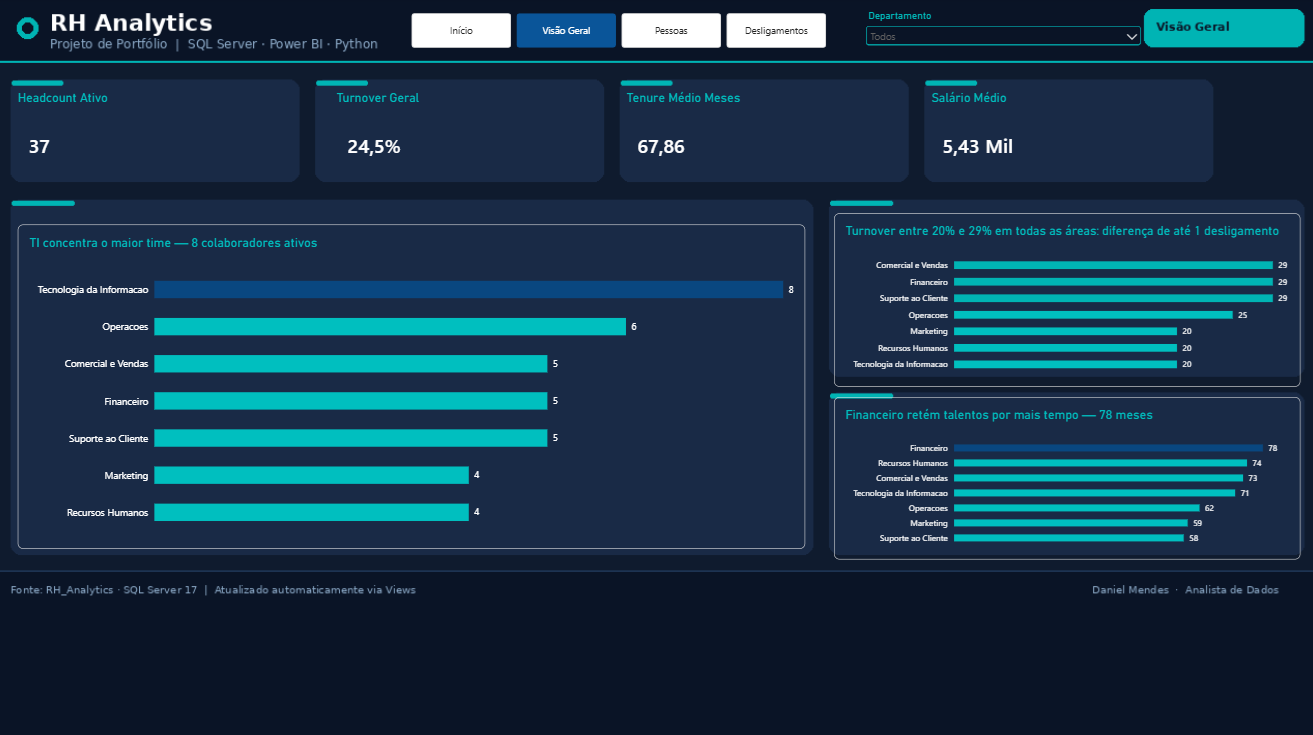

The page's visual inventory and layout, read from the dashboard file:
{"tool":"powerbi","page":{"name":"Visão Geral","canvas":[1920,1080],"ordinal":1},"visuals":[{"type":"cardVisual","title":"Headcount Ativo","fields":{"Data":["Sum(vw_Headcount_Ativo.Headcount_Ativo)"]},"box":[35,135.8,393.1,119.4],"z":0},{"type":"cardVisual","title":"Turnover Médio (%)","fields":{"Data":["Avg(vw_Turnover_Departamento.Turnover_Pct)"]},"box":[496.1,135.8,397.3,119.4],"z":1000},{"type":"cardVisual","title":"Tenure Médio Meses (%)","fields":{"Data":["Avg(vw_Tenure_Departamento.Tenure_Medio_Meses)"]},"box":[916,135.8,399.3,119.4],"z":2000},{"type":"cardVisual","title":"Salário Médio","fields":{"Data":["Avg(vw_Painel_Executivo.Salario_Medio)"]},"box":[1356.4,135.8,403.4,119.4],"z":3000},{"type":"clusteredBarChart","title":"TI concentra o maior time — 8 colaboradores ativos","fields":{"Category":["vw_Headcount_Ativo.Departamento"],"Y":["Sum(vw_Headcount_Ativo.Headcount_Ativo)"]},"box":[35,329.3,1140.3,469.3],"z":4000},{"type":"clusteredBarChart","title":"3 departamentos com Turnover acima de 28% — sinal de alerta","fields":{"Category":["vw_Turnover_Departamento.Departamento"],"Y":["Avg(vw_Turnover_Departamento.Turnover_Pct)"]},"box":[1216.5,312.9,675.1,226.4],"z":5000},{"type":"textbox","box":[588.7,191.4,63.8,59.7],"z":6000},{"type":"textbox","box":[1004.5,191.4,63.8,59.7],"z":7000},{"type":"clusteredBarChart","title":"Financeiro retém talentos por mais tempo — 78 meses","fields":{"Category":["vw_Tenure_Departamento.Departamento"],"Y":["Avg(vw_Tenure_Departamento.Tenure_Medio_Meses)"]},"box":[1216.5,592.8,675.1,205.8],"z":8000},{"type":"slicer","fields":{"Values":["vw_Headcount_Ativo.Departamento"]},"box":[1257.6,18.5,407.5,53.5],"z":9000},{"type":"pageNavigator","box":[605.1,22.6,600,50],"z":10000}]}

Visuals, with their boxes in screenshot pixels (x1, y1, x2, y2), scaled from the page's 1920x1080 canvas onto the 1313x735 screenshot:
"Headcount Ativo" cardVisual: 24 92 293 174
"Turnover Médio (%)" cardVisual: 339 92 611 174
"Tenure Médio Meses (%)" cardVisual: 626 92 899 174
"Salário Médio" cardVisual: 928 92 1203 174
"TI concentra o maior time — 8 colaboradores ativos" clusteredBarChart: 24 224 804 543
"3 departamentos com Turnover acima de 28% — sinal de alerta" clusteredBarChart: 832 213 1294 367
textbox: 403 130 446 171
textbox: 687 130 731 171
"Financeiro retém talentos por mais tempo — 78 meses" clusteredBarChart: 832 403 1294 543
slicer - vw_Headcount_Ativo.Departamento: 860 13 1139 49
pageNavigator: 414 15 824 49
